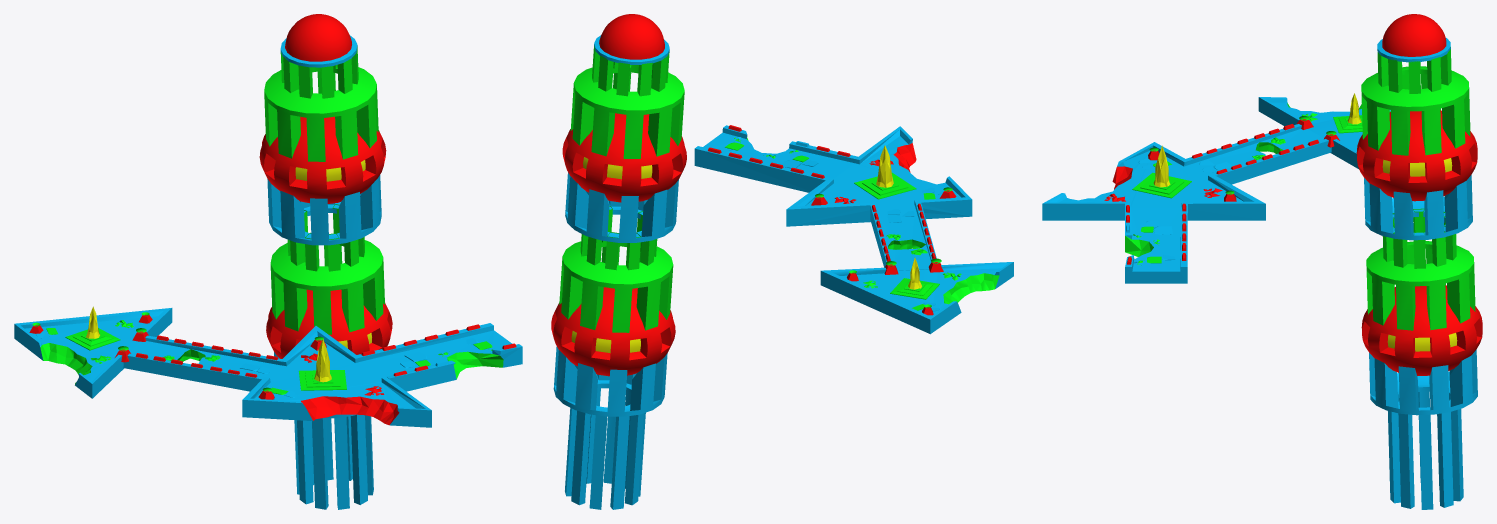
File: level01_floor02.FBX
3 views of the same model, side by side, from view 1: azimuth 30°, elevation 25°; view 2: azimuth 150°, elevation 25°; view 3: azimuth 270°, elevation 25° (orthographic). The views are drawn at different scales.
Visible parts, largest first — view 1: floor02_pisa, floor02_floor01, floor02_floor02; view 2: floor02_pisa, floor02_floor01, floor02_floor02; view 3: floor02_pisa, floor02_floor01, floor02_floor02.
Boxes of the visible parts, x1,y1,x2,y2 form: floor02_pisa: (259, 14, 392, 509); floor02_floor01: (242, 323, 522, 427); floor02_floor02: (14, 306, 281, 398); floor02_pisa: (551, 14, 686, 509); floor02_floor01: (694, 125, 972, 226); floor02_floor02: (820, 202, 1013, 334); floor02_pisa: (1356, 14, 1482, 509); floor02_floor01: (1042, 142, 1265, 283); floor02_floor02: (1186, 93, 1390, 184).
Size of the model in its own units: 917 by 1136 by 964.
